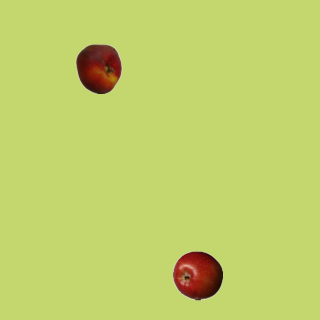Apple Braeburn: (172, 250, 222, 300)
Nectarine Flat: (73, 43, 123, 93)
